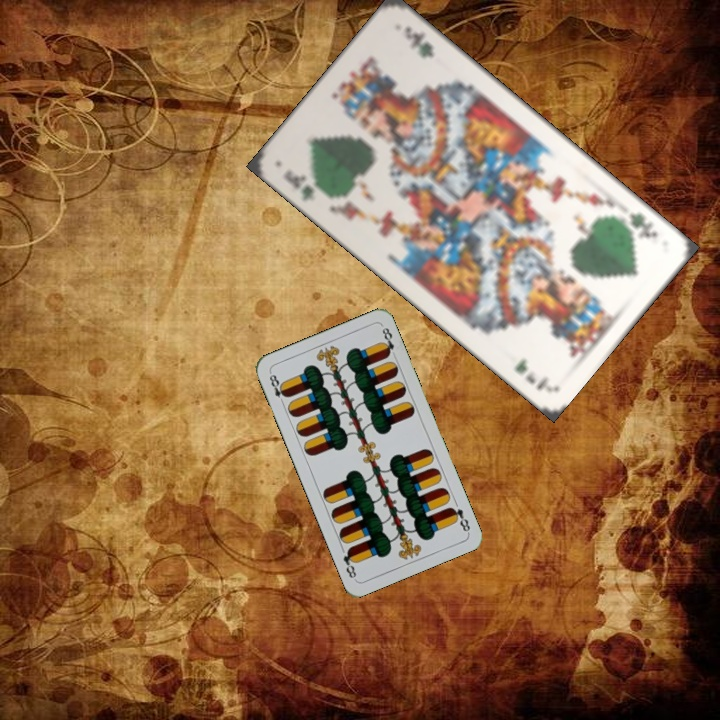E8: (265, 368, 290, 408), (445, 503, 473, 535)
GK: (279, 166, 318, 204), (624, 209, 661, 241)
